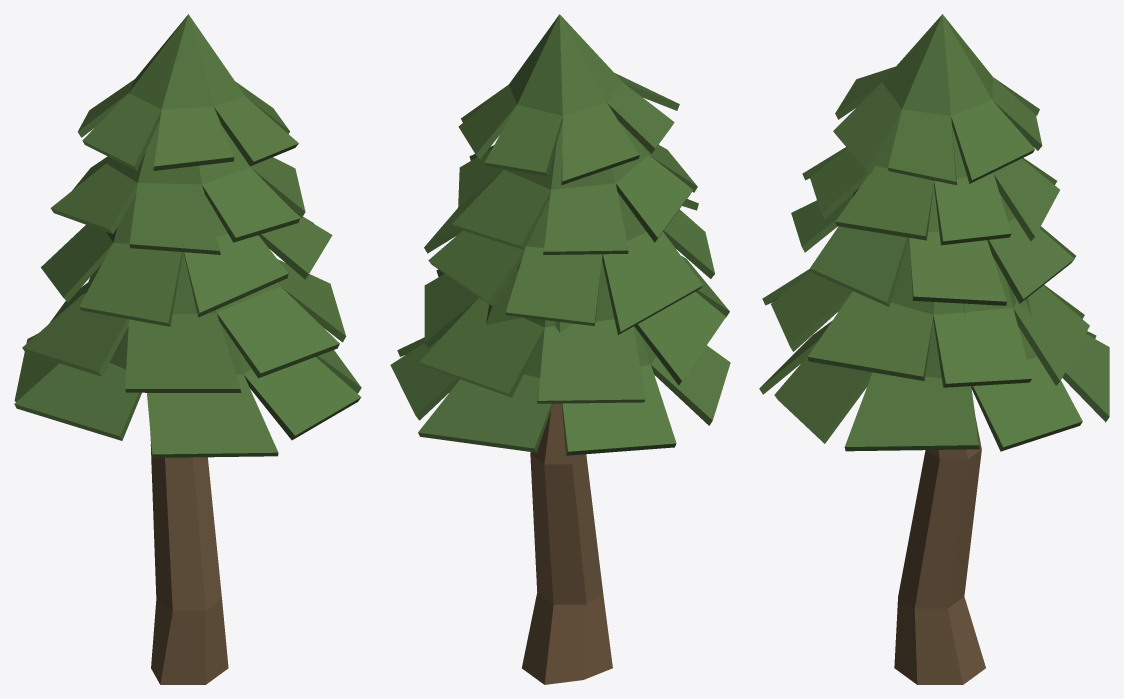
Rendered from tree7.fbx.
3 views of the same model, side by side, from view 1: azimuth 30°, elevation 25°; view 2: azimuth 150°, elevation 25°; view 3: azimuth 270°, elevation 25° (orthographic).
Visible parts, largest first — view 1: Cone.001; view 2: Cone.001; view 3: Cone.001.
Boxes of the visible parts, <box> form: Cone.001: <box>14,14,361,684</box>; Cone.001: <box>390,14,730,684</box>; Cone.001: <box>759,14,1109,684</box>.
Bounding box in the file's own units: 164 × 332 × 160.
